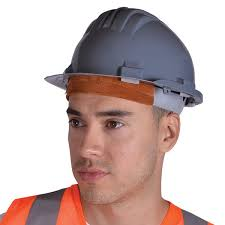Casco de seguridad: (44, 3, 208, 116)
